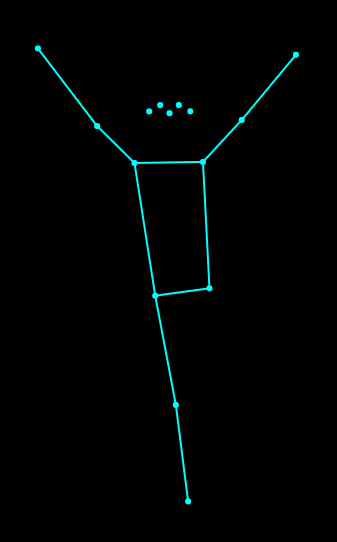tree: (26, 39, 305, 507)
